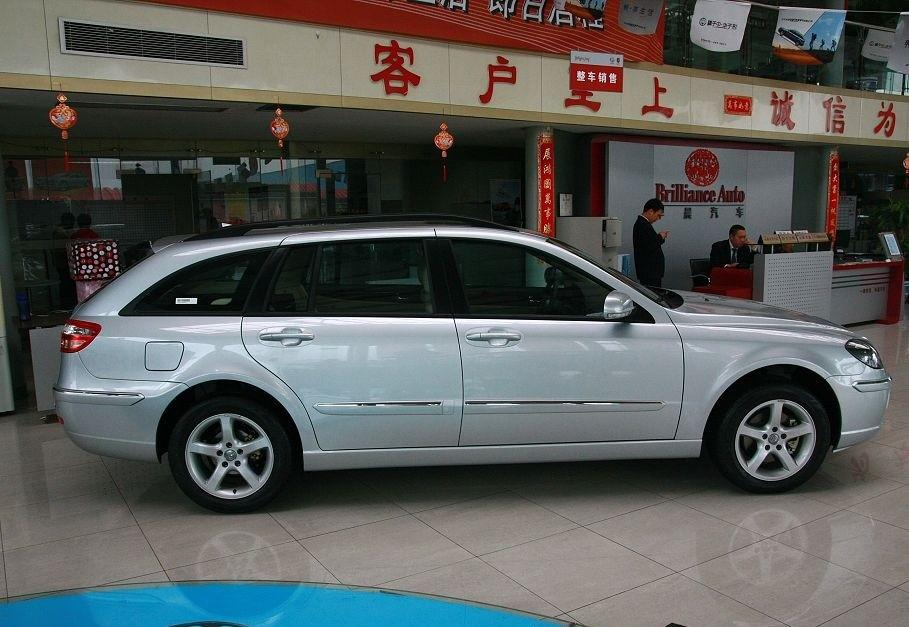Wagon: (53, 212, 894, 514)
